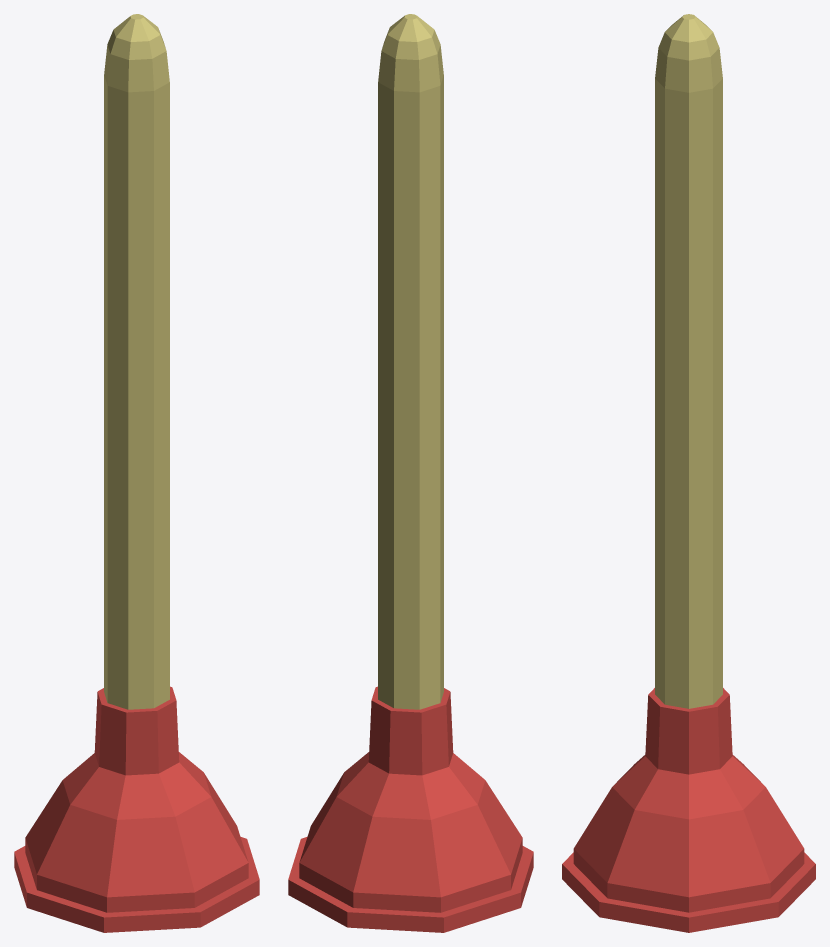
The model's file is Plunger.fbx.
3 renders of one model, left to right at view 1: azimuth 30°, elevation 25°; view 2: azimuth 150°, elevation 25°; view 3: azimuth 270°, elevation 25°, orthographic.
Parts seen in each view (by area): view 1: Plunger; view 2: Plunger; view 3: Plunger.
Part boxes in pixels (x1=…): Plunger: x1=14, y1=14, x2=259, y2=932; Plunger: x1=288, y1=14, x2=533, y2=932; Plunger: x1=562, y1=14, x2=815, y2=932.
Bounding box in the file's own units: 112 × 420 × 112.
